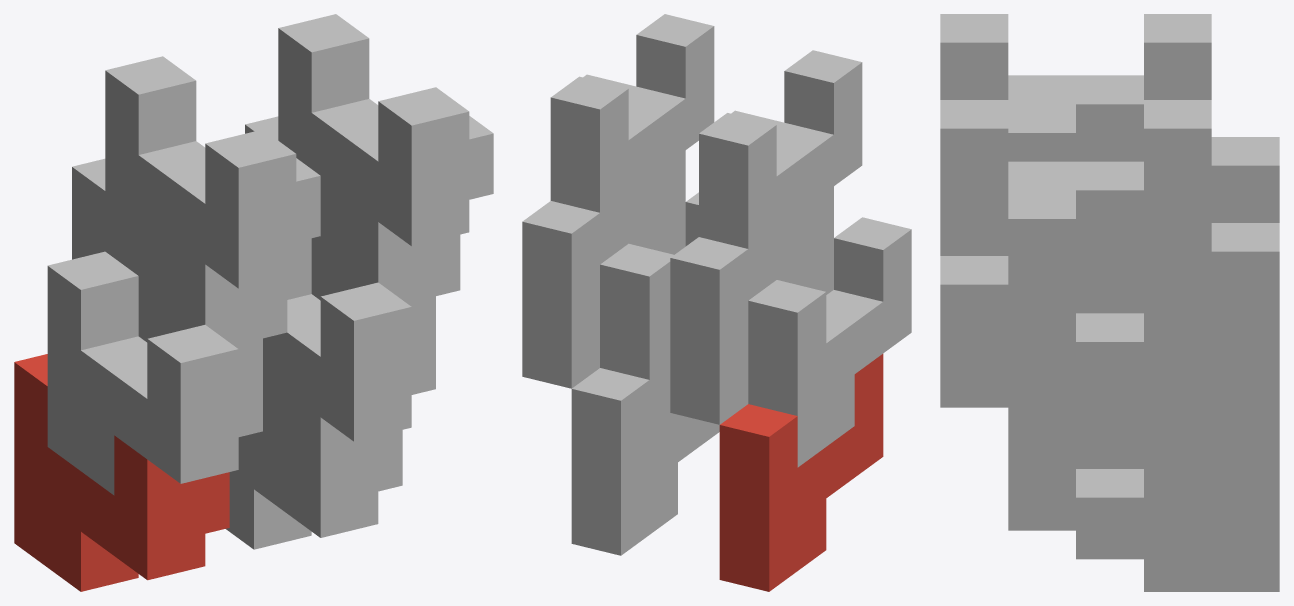
The model's file is tiling.obj.
3 renders of one model, left to right at view 1: azimuth 30°, elevation 25°; view 2: azimuth 150°, elevation 25°; view 3: azimuth 270°, elevation 25°, orthographic. The views are drawn at different scales.
Visible parts, largest first — view 1: copy_1_domain_4, copy_1_domain_2, copy_1_domain_8, copy_1_domain_1, copy_1_domain_6, copy_1_domain_5, copy_1_domain_3, copy_1_domain_7; view 2: copy_1_domain_4, copy_1_domain_8, copy_1_domain_2, copy_1_domain_1, copy_1_domain_5, copy_1_domain_3, copy_1_domain_7, copy_1_domain_6; view 3: copy_1_domain_8, copy_1_domain_7, copy_1_domain_5, copy_1_domain_4, copy_1_domain_6, copy_1_domain_3.
Part boxes in pixels (x1,y1,x2,y2): copy_1_domain_4: (105, 56, 320, 299); copy_1_domain_2: (47, 251, 262, 495); copy_1_domain_8: (278, 14, 493, 257); copy_1_domain_1: (14, 354, 229, 591); copy_1_domain_6: (259, 238, 435, 452); copy_1_domain_5: (225, 393, 402, 549); copy_1_domain_3: (72, 158, 287, 376); copy_1_domain_7: (245, 116, 460, 334); copy_1_domain_4: (699, 50, 862, 300); copy_1_domain_8: (550, 14, 714, 264); copy_1_domain_2: (748, 217, 911, 467); copy_1_domain_1: (719, 354, 883, 591); copy_1_domain_5: (571, 368, 719, 555); copy_1_domain_3: (670, 186, 833, 424); copy_1_domain_7: (522, 150, 685, 388); copy_1_domain_6: (600, 192, 698, 430); copy_1_domain_8: (940, 100, 1211, 313); copy_1_domain_7: (1008, 223, 1279, 436); copy_1_domain_5: (1008, 436, 1279, 591); copy_1_domain_4: (940, 14, 1211, 161); copy_1_domain_6: (940, 256, 1211, 468); copy_1_domain_3: (1211, 137, 1279, 222).
Bounding box in the file's own units: 6 × 8 × 5.
